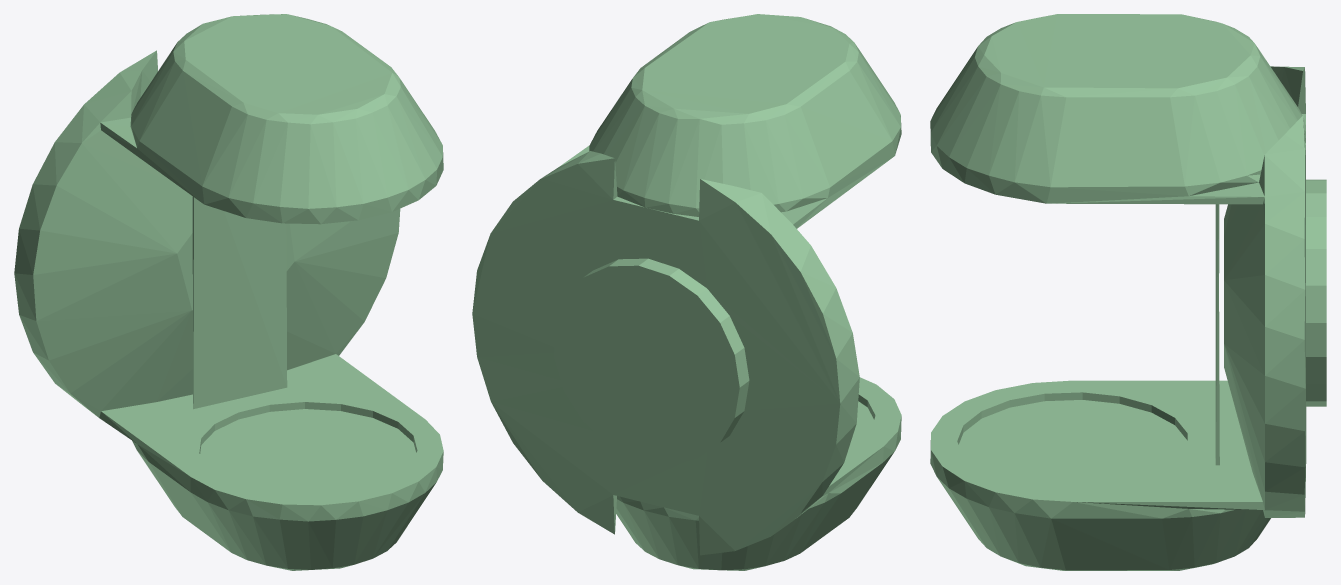
3 renders of one model, left to right at view 1: azimuth 30°, elevation 25°; view 2: azimuth 150°, elevation 25°; view 3: azimuth 270°, elevation 25°, orthographic. The views are drawn at different scales.
Visible parts, largest first — view 1: link1; view 2: link1; view 3: link1.
Part boxes in pixels (<box>): link1: <box>14,14,443,570</box>; link1: <box>472,14,901,570</box>; link1: <box>930,14,1326,570</box>.
Size of the model in its own units: 0.2196 by 0.2597 by 0.1931.
